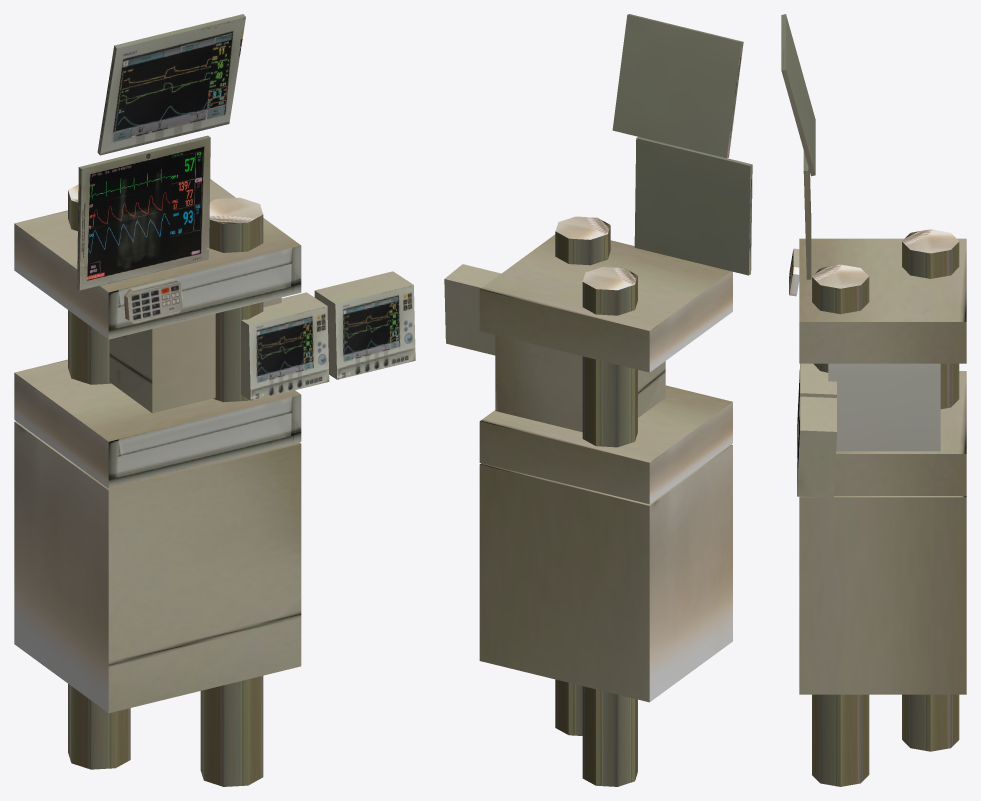
Rendered from screen3.fbx.
3 views of the same model, side by side, from view 1: azimuth 30°, elevation 25°; view 2: azimuth 150°, elevation 25°; view 3: azimuth 270°, elevation 25° (orthographic). The views are drawn at different scales.
Parts seen in each view (by area): view 1: MSH_screens3; view 2: MSH_screens3; view 3: MSH_screens3.
Part boxes in pixels (left/top/right/bottom): MSH_screens3: left=14, top=14, right=415, bottom=786; MSH_screens3: left=444, top=14, right=752, bottom=786; MSH_screens3: left=781, top=14, right=966, bottom=786.
Bounding box in the file's own units: 7.17 × 16.32 × 3.93.
Materials: 1 (1 with a texture image).
